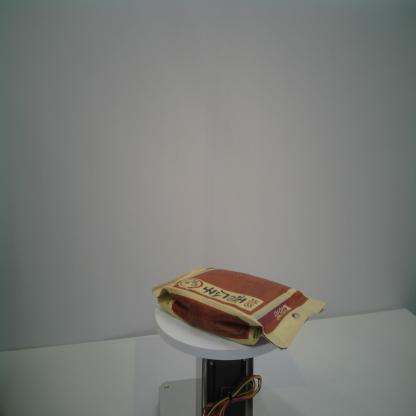Dried Food: (150, 264, 329, 353)
